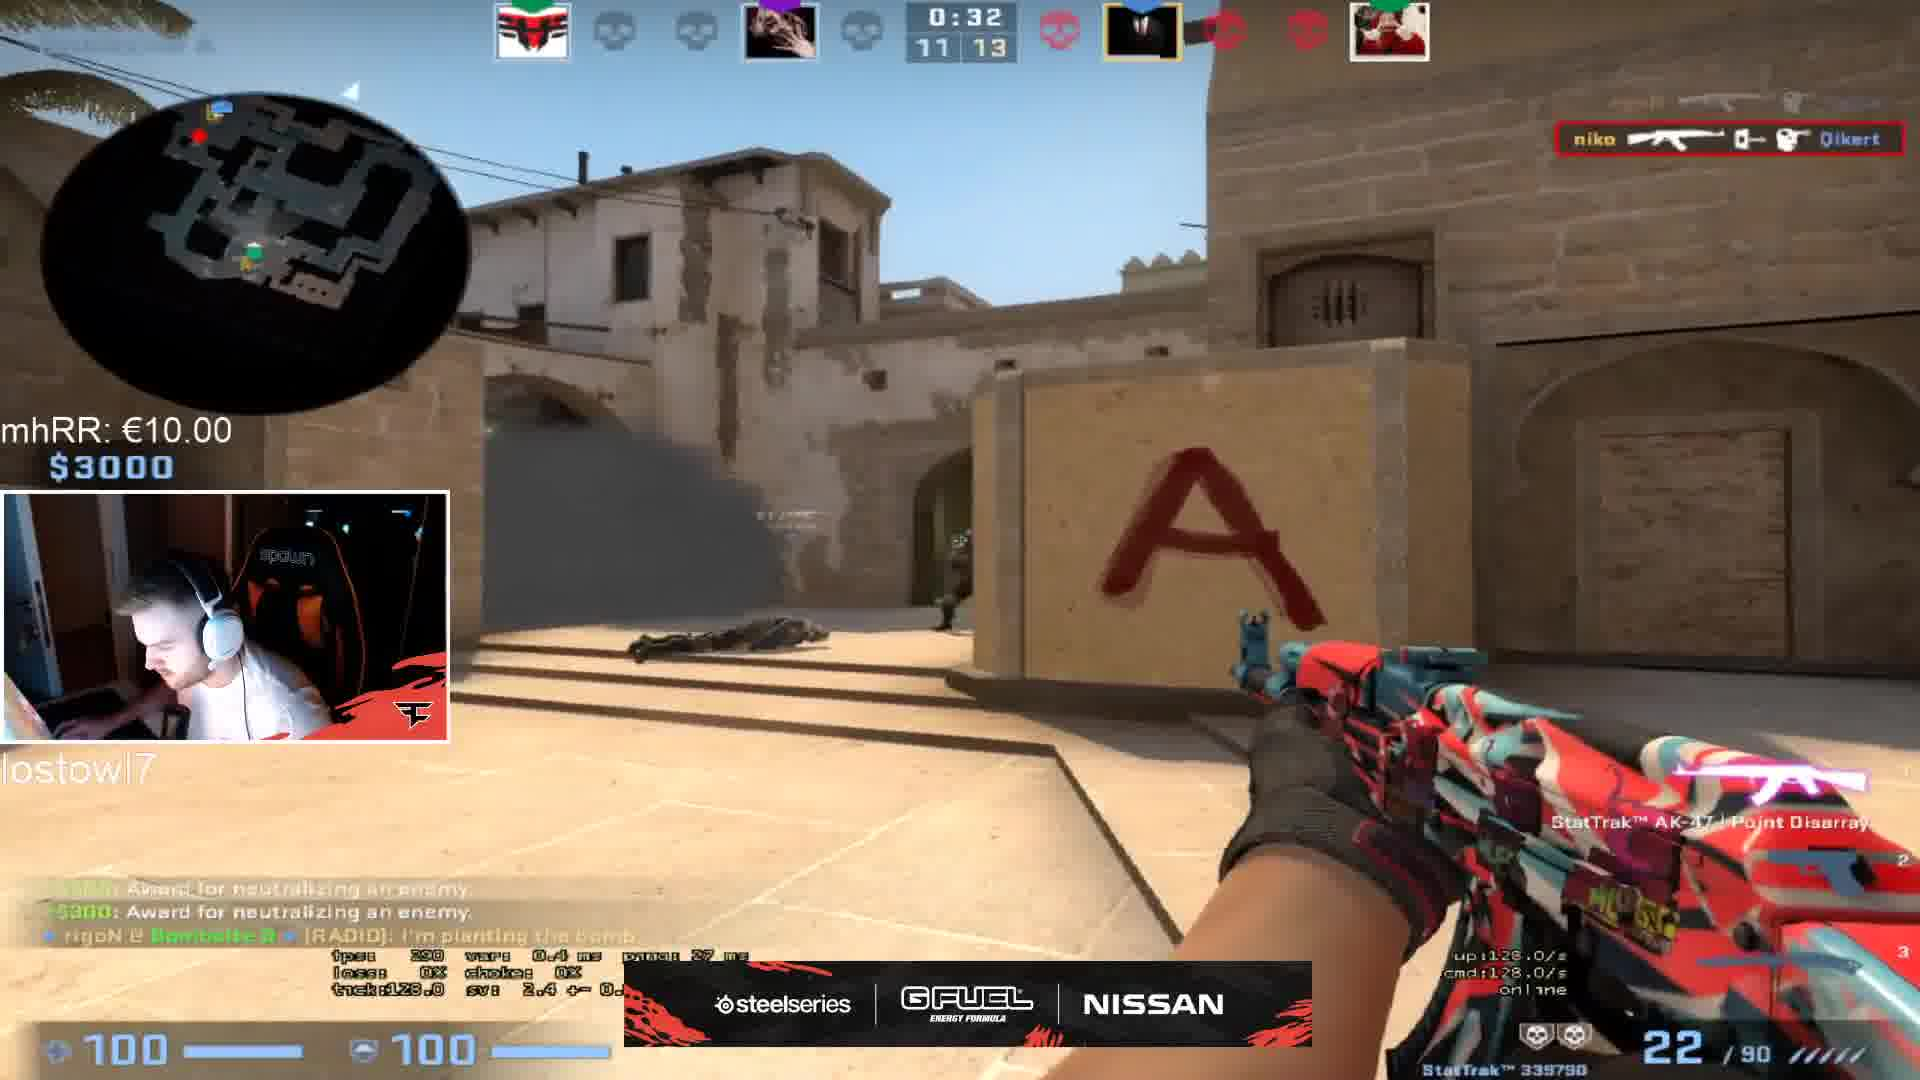enemy: (928, 535, 978, 634)
